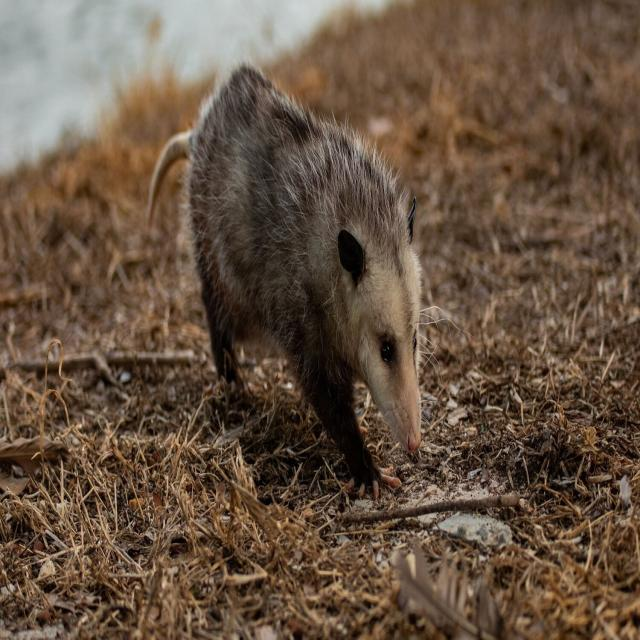Possum: (146, 65, 430, 479)
